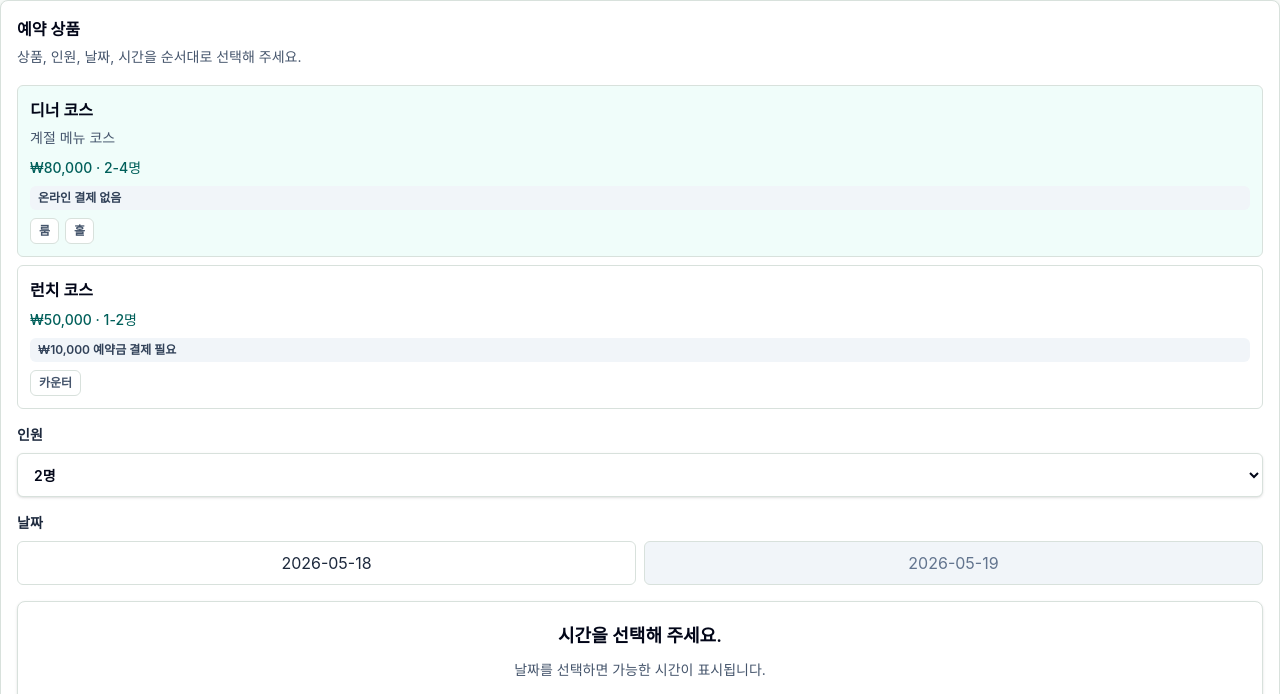
Test: ReservationSelectionPanel › resets lower selections when the selected product changes
The width and height of the screenshot is (1280, 694).
Click the button "2026-05-18" at (326, 563), box [17,541,636,585]
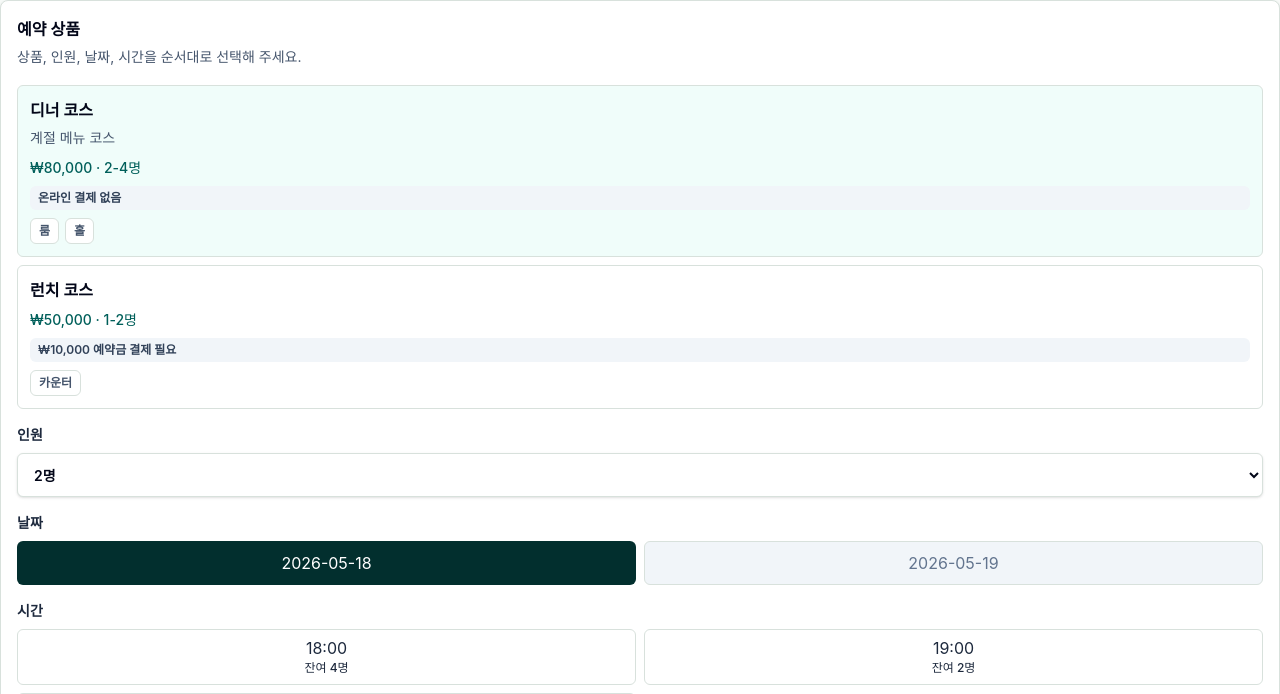
Click the button "18:00 잔여 4명" at (326, 657), box [17,629,636,685]
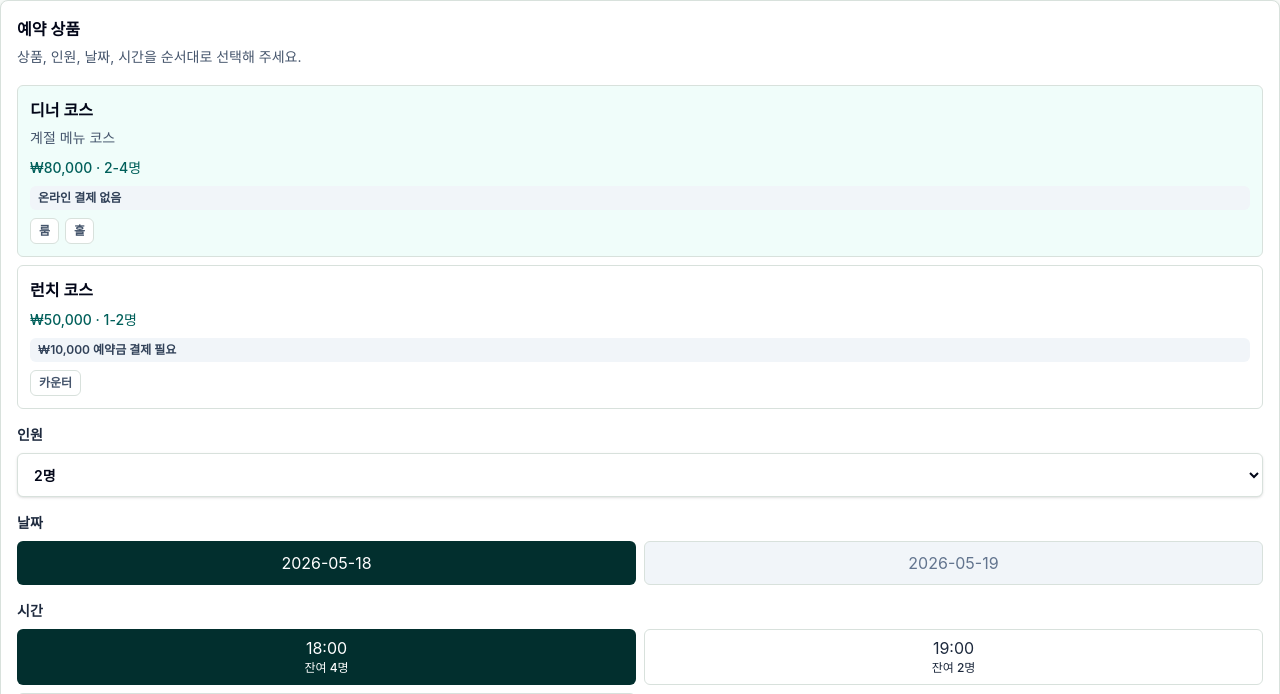
Click the button "런치 코스 ₩50,000 · 1-2명 ₩10,000 예약금 결제 필요 카운터" at (640, 337), box [17,265,1263,409]
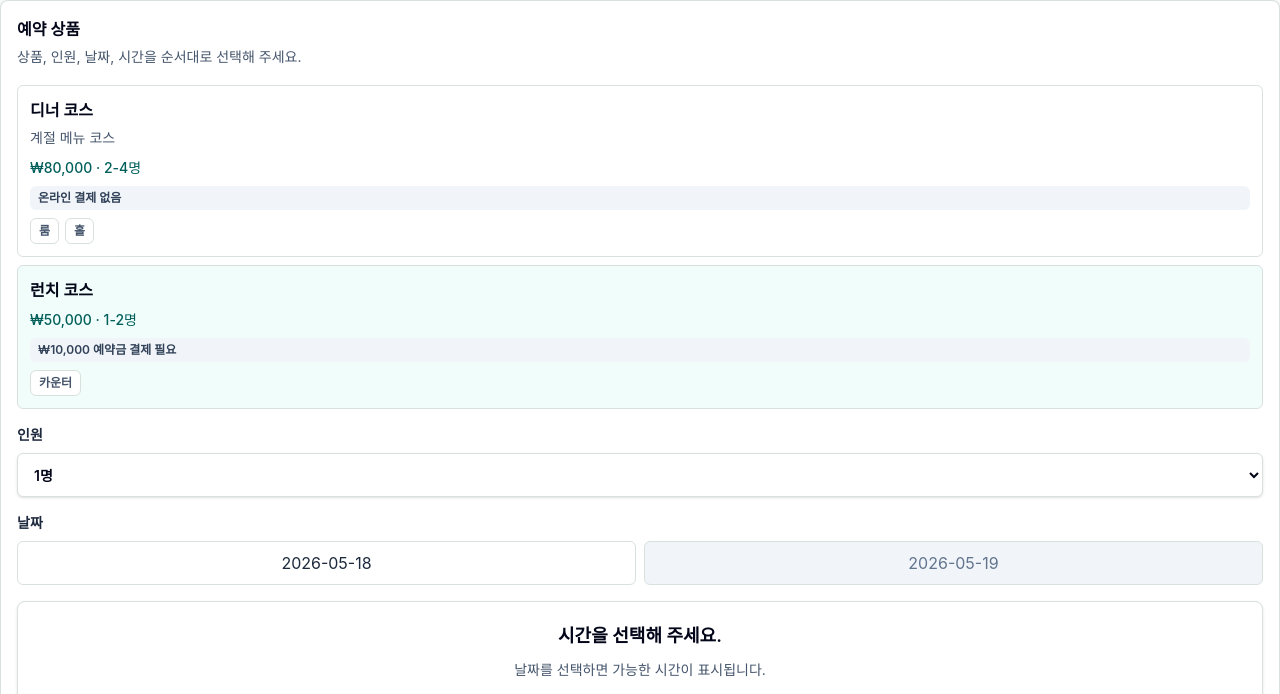
Check: the dropdown labelled "인원" shows "1명", box [17,453,1263,497]
